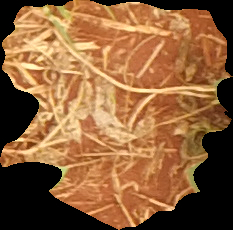soil: (2, 2, 231, 228)
